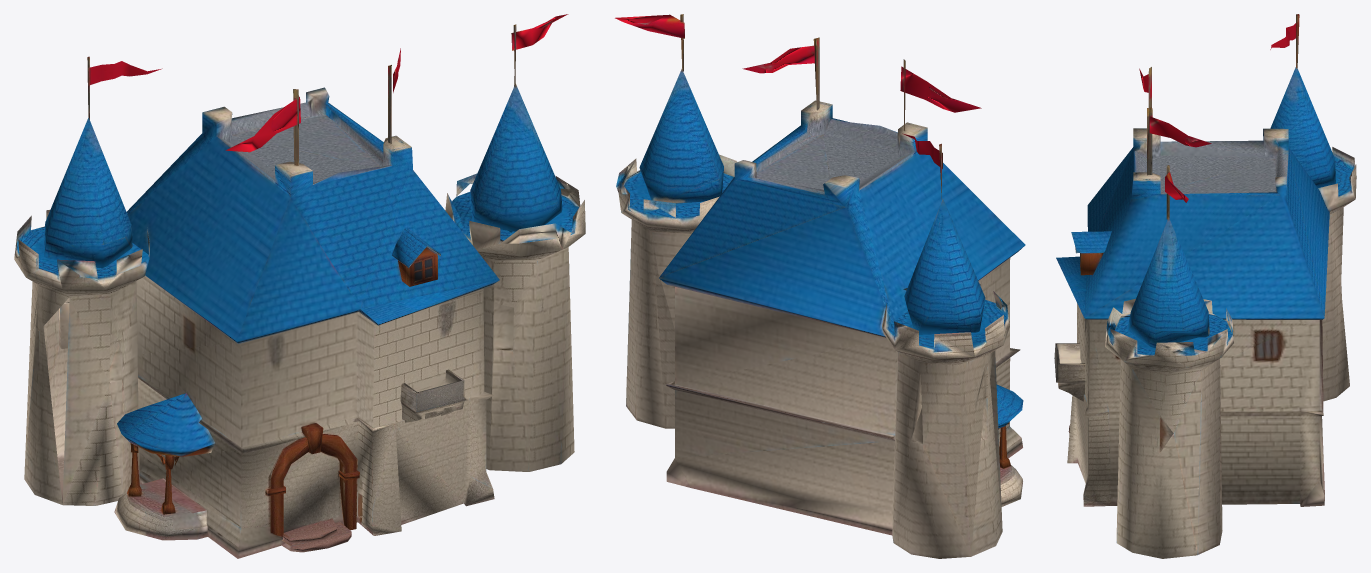
The model's file is azure-city.glb.
3 renders of one model, left to right at view 1: azimuth 30°, elevation 25°; view 2: azimuth 150°, elevation 25°; view 3: azimuth 270°, elevation 25°, orthographic. The views are drawn at different scales.
Bounding box in the file's own units: 0.9688 × 0.8125 × 0.5987.
Materials: 1 (1 with a texture image).
